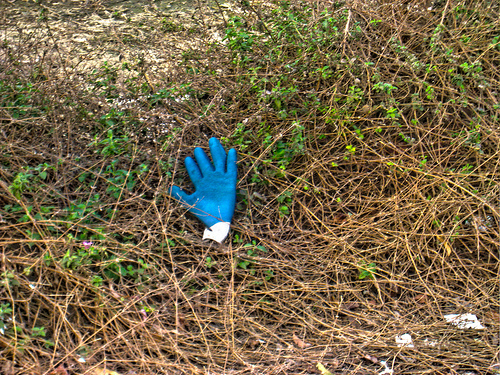litter: (168, 140, 236, 242)
